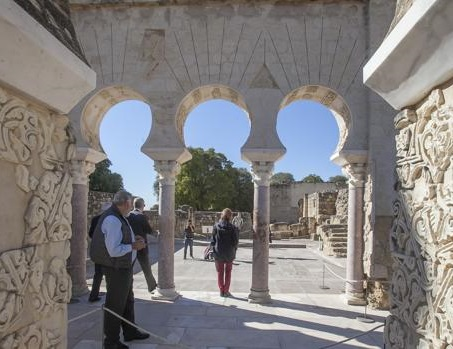arco-herradura: (167, 78, 265, 180), (267, 78, 360, 179), (80, 82, 167, 174)
